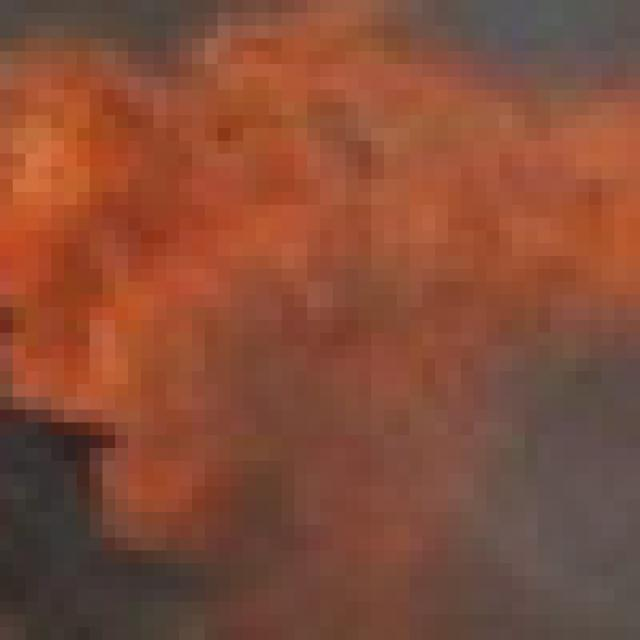fire: (0, 13, 640, 614)
